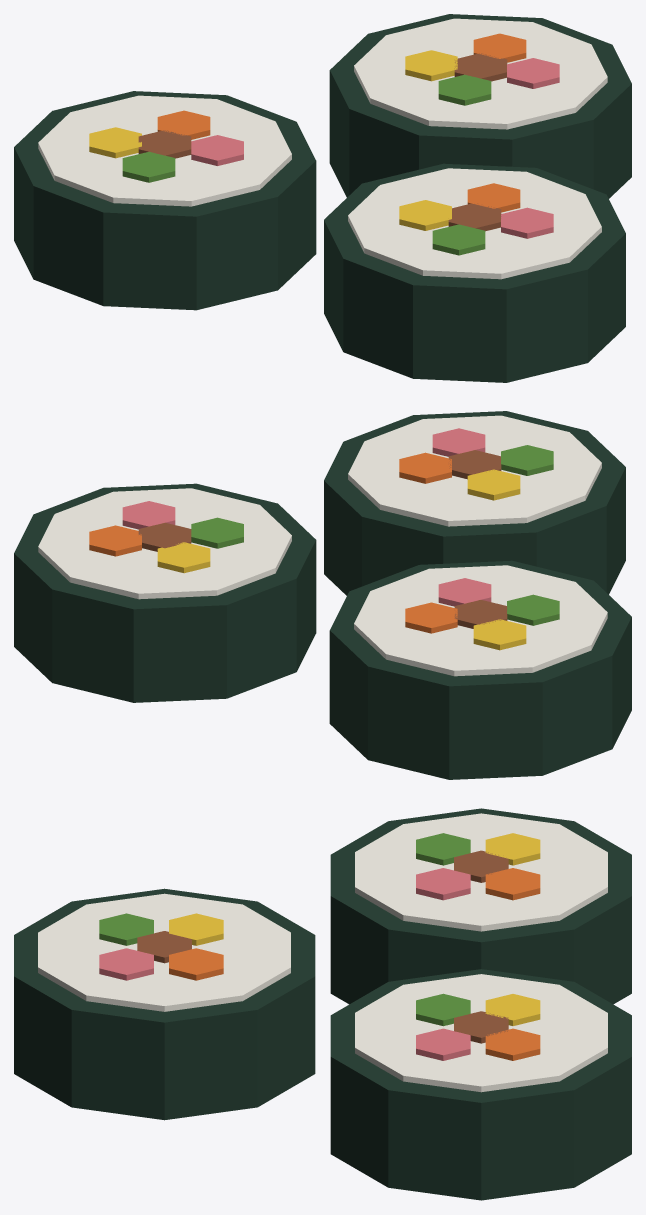
The model's file is Food_Kimbap.obj.
3 views of the same model, one above another, from view 1: azimuth 30°, elevation 25°; view 2: azimuth 150°, elevation 25°; view 3: azimuth 270°, elevation 25° (orthographic). The views are drawn at different scales.
Size of the model in its own units: 2.2 by 0.38 by 1.95.
